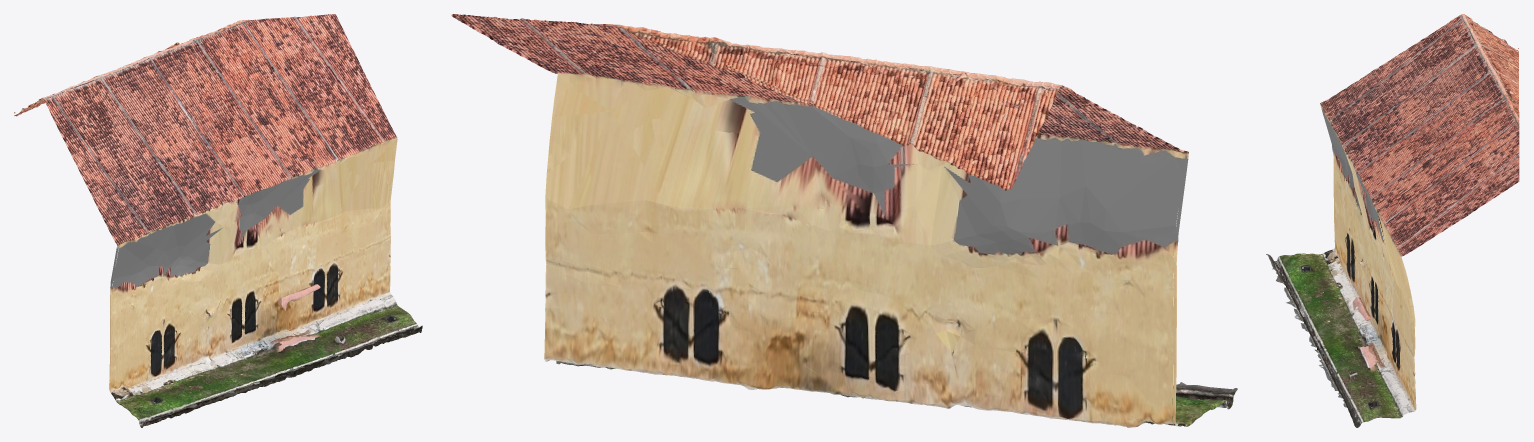
The picture shows the model from 3 angles, left to right: view 1: azimuth 30°, elevation 25°; view 2: azimuth 150°, elevation 25°; view 3: azimuth 270°, elevation 25°; orthographic projection. The views are drawn at different scales.
Visible parts, largest first — view 1: node_29; view 2: node_29; view 3: node_29.
Boxes of the visible parts, <box> form: node_29: <box>14,14,422,427</box>; node_29: <box>451,14,1237,427</box>; node_29: <box>1266,14,1519,427</box>.
Size of the model in its own units: 23.2 by 18.91 by 16.46.
1 material, 1 textured.
